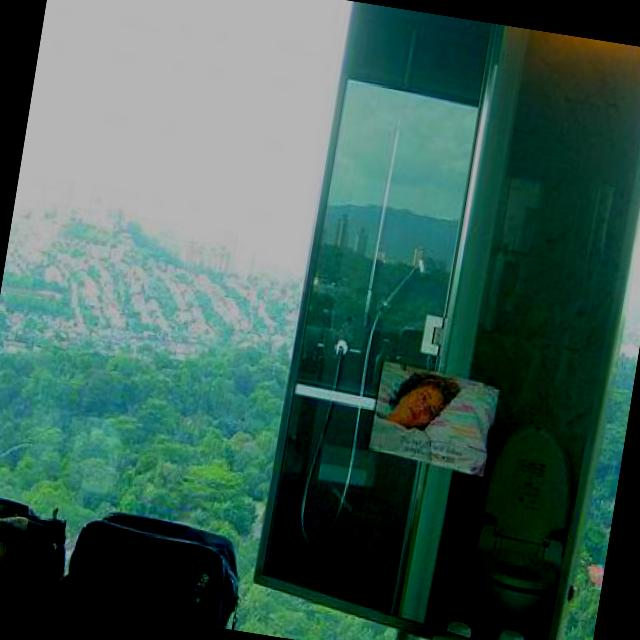Person: (367, 362, 463, 466)
